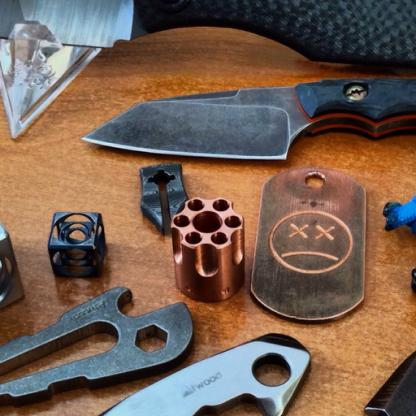knife: (0, 0, 416, 146), (0, 0, 415, 140), (81, 75, 415, 167), (85, 76, 415, 168)
